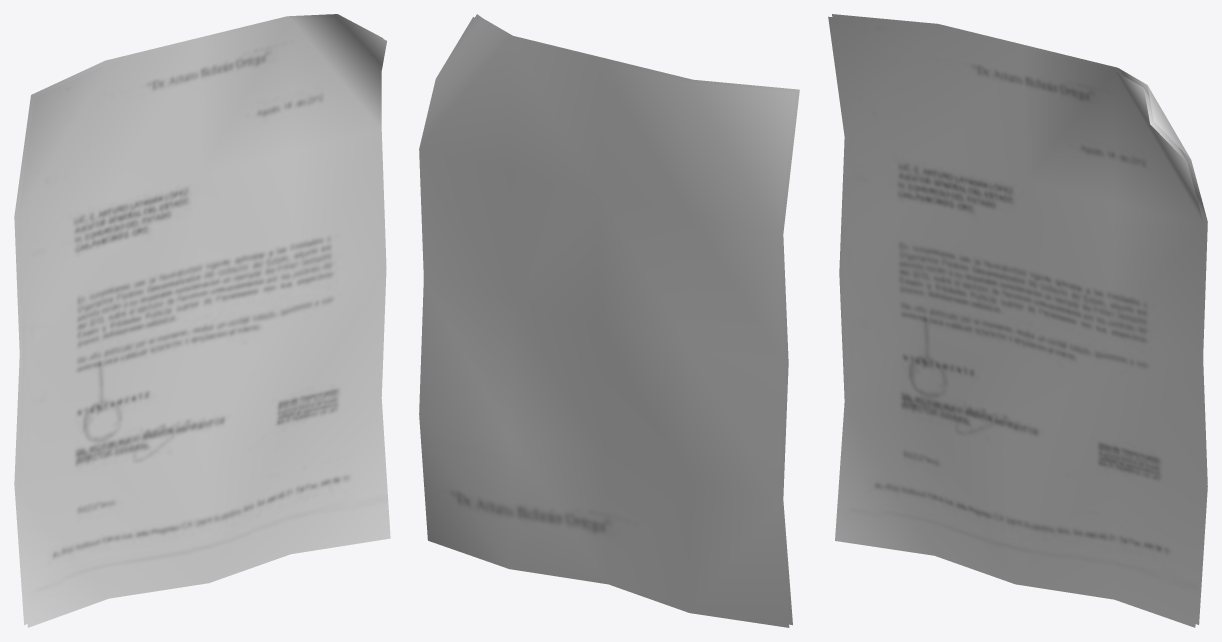
Rendered from Poster 2.FBX.
3 views of the same model, side by side, from view 1: azimuth 30°, elevation 25°; view 2: azimuth 150°, elevation 25°; view 3: azimuth 330°, elevation 25° (orthographic).
Visible parts, largest first — view 1: Poster 2; view 2: Poster 2; view 3: Poster 2.
Part boxes in pixels (x1,y1,x2,y2): Poster 2: (14, 14, 390, 627); Poster 2: (419, 14, 799, 627); Poster 2: (828, 14, 1207, 627).
Bounding box in the file's own units: 26.11 × 36.72 × 4.2.
Materials: 1 (1 with a texture image).
